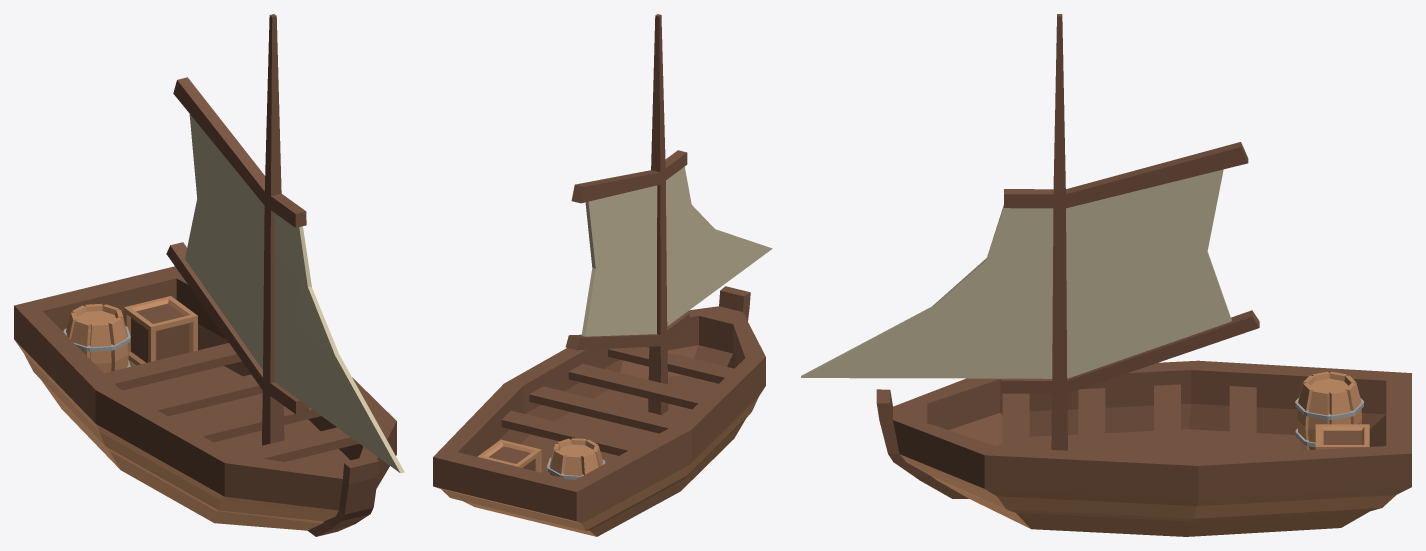
Rendered from BoatWSail-DeJB5VgM.glb.
3 views of the same model, side by side, from view 1: azimuth 30°, elevation 25°; view 2: azimuth 150°, elevation 25°; view 3: azimuth 270°, elevation 25° (orthographic). The views are drawn at different scales.
Visible parts, largest first — view 1: Boat, Sail; view 2: Boat, Sail; view 3: Boat, Sail.
Boxes of the visible parts, x1,y1,x2,y2 form: Boat: (14,266,396,536); Sail: (166,14,404,473); Boat: (433,286,765,536); Sail: (565,14,772,415); Boat: (876,360,1411,536); Sail: (801,14,1259,450).
Bounding box in the file's own units: 0.4032 × 0.8547 × 0.989.
